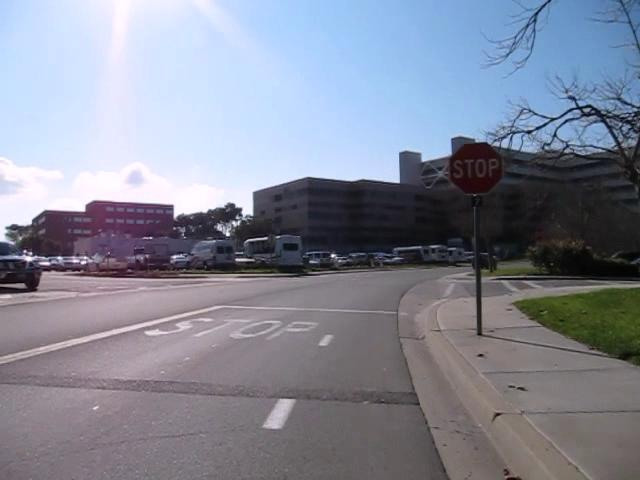stop: (447, 141, 504, 195)
